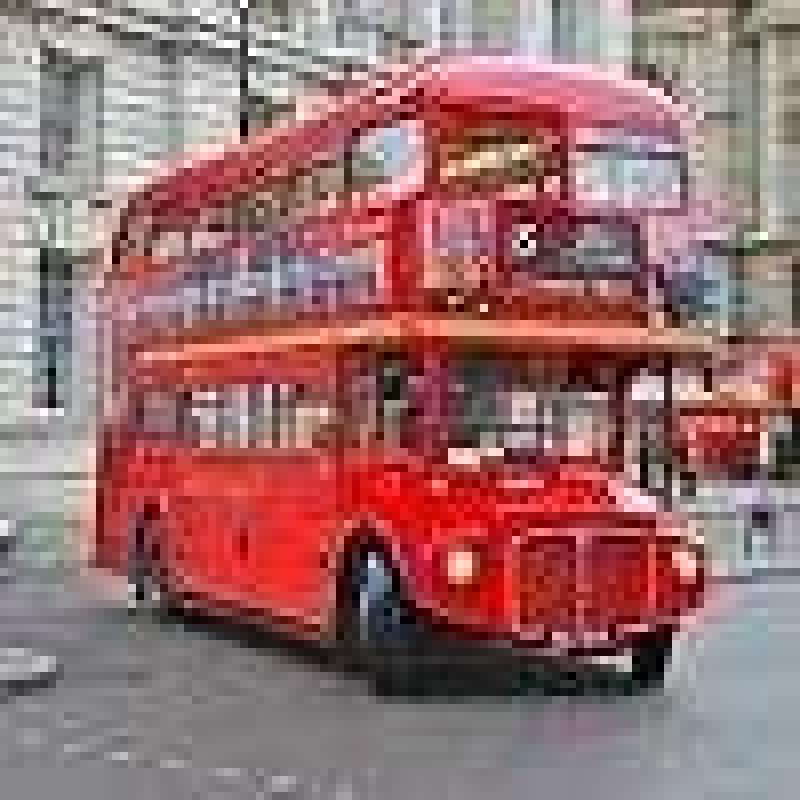bus: (77, 42, 771, 723)
